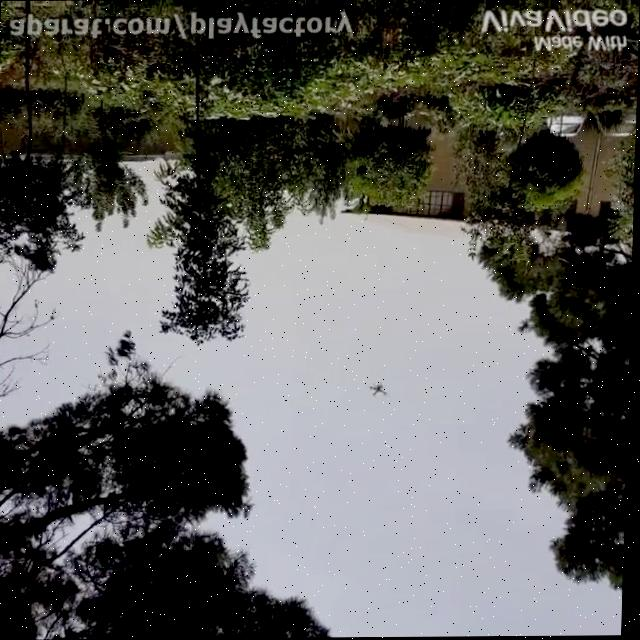drone: (366, 381, 390, 403)
